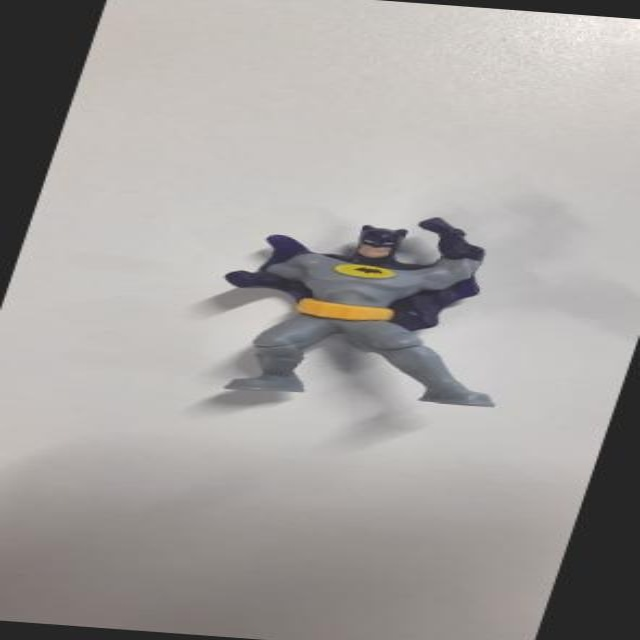Batman: (162, 195, 569, 431)
